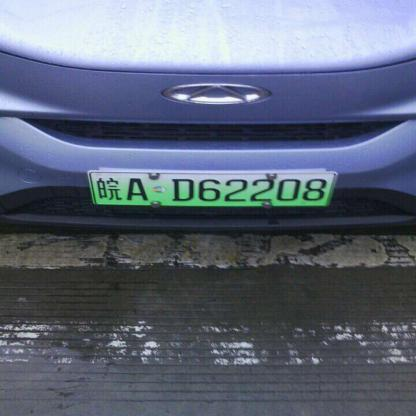lp: (90, 172, 333, 205)
